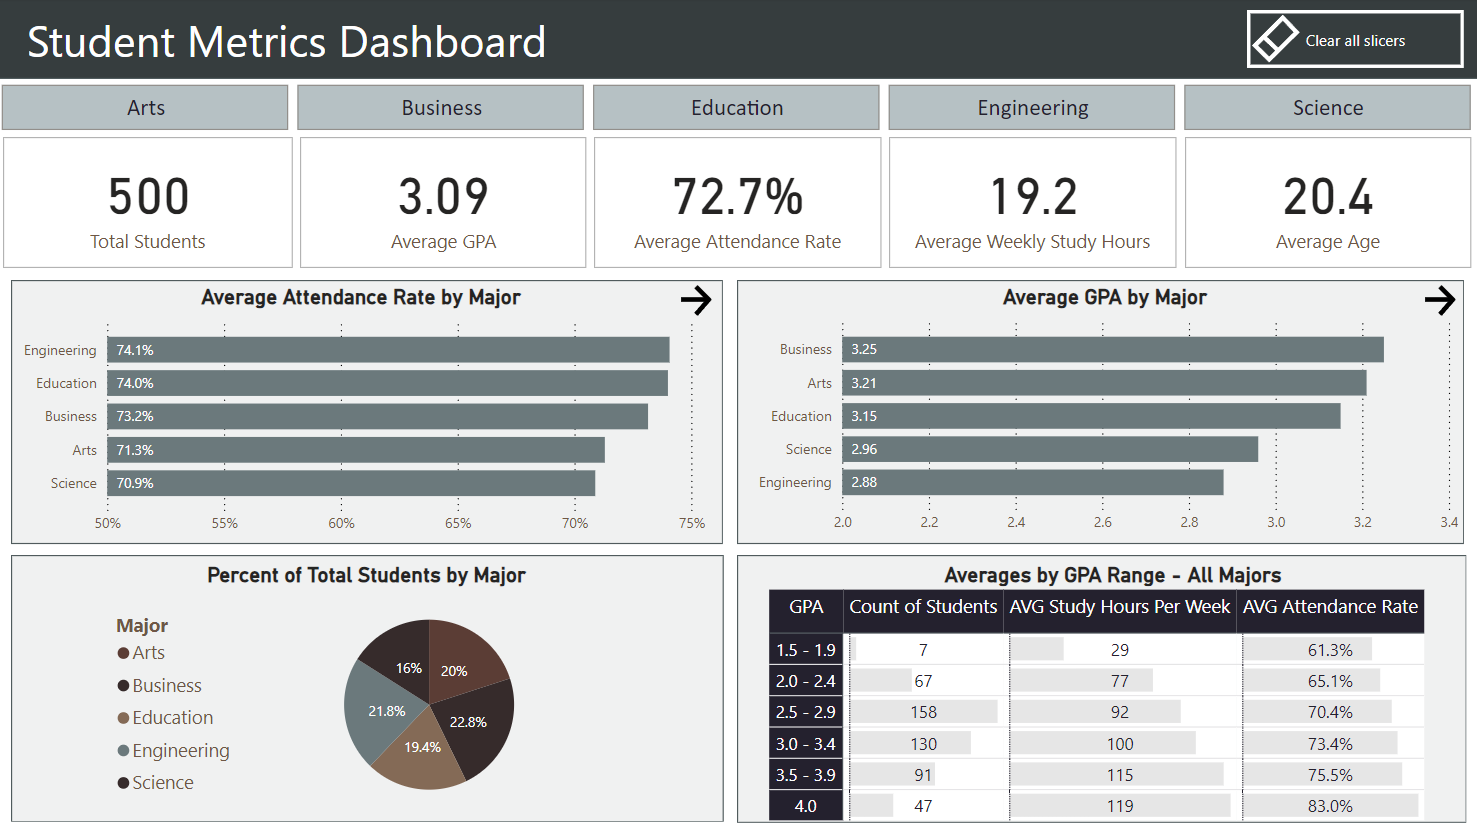

The page's visual inventory and layout, read from the dashboard file:
{"tool":"powerbi","page":{"name":"Overview","canvas":[1280,720],"ordinal":0},"visuals":[{"type":"shape","box":[639.4,480.6,629.4,231.1],"z":0},{"type":"shape","box":[12.6,480.7,614.8,230.4],"z":1000},{"type":"shape","box":[639.4,243.3,627.2,227.8],"z":2000},{"type":"shape","box":[13.1,243.1,614.2,227.8],"z":3000},{"type":"shape","box":[0,0,1280,69.9],"z":4000},{"type":"card","fields":{"Values":["Avg(General AVGs.avg_gpa)"]},"box":[262.2,120,247.4,113],"z":5000},{"type":"card","fields":{"Values":["Avg(General AVGs.avg_age)"]},"box":[1025.7,120,246.5,113],"z":6000},{"type":"card","fields":{"Values":["Avg(General AVGs.avg_attendance)"]},"box":[515.8,119.9,247.5,113],"z":7000},{"type":"card","fields":{"Values":["Avg(General AVGs.avg_study_hours)"]},"box":[770.2,119.9,247.5,113],"z":8000},{"type":"card","title":"Total Students","fields":{"Values":["CountNonNull(Students.StudentID)"]},"box":[6.1,120,249.6,113],"z":9000},{"type":"textbox","box":[21.6,6,468.4,63.8],"z":10000},{"type":"pieChart","title":"Percent of Total Students  by Major","fields":{"Y":["Avg(Students % of Total.percent_of_total_students)"],"Category":["Students % of Total.Major"]},"box":[98.3,486.5,442.5,225.1],"z":11000},{"type":"barChart","title":"Average GPA by Major","fields":{"Category":["General AVGs.Major"],"Y":["Avg(General AVGs.avg_gpa)"]},"box":[646.9,246.7,619.3,223.4],"z":12000},{"type":"barChart","title":"Average Attendance Rate by Major","fields":{"Category":["General AVGs.Major"],"Y":["Avg(General AVGs.avg_attendance)"]},"box":[12.9,246.7,603.8,224.3],"z":13000},{"type":"actionButton","box":[1079,10.4,187.2,50],"z":14000},{"type":"actionButton","box":[582.2,243.2,42.3,35.4],"z":15000},{"type":"actionButton","box":[1223.9,243.2,42.3,35.4],"z":16000},{"type":"advancedSlicerVisual","fields":{"Values":["General AVGs.Major"]},"box":[0,70.2,1278.2,49.5],"z":17000},{"type":"pivotTable","title":"Averages by GPA Range - All Majors","fields":{"Rows":["Query1.GPA_Rating"],"Values":["Sum(Query1.Count_Students)","Sum(Query1.Avg_StudyHoursPerWeek)","Avg(Query1.Avg_AttendanceRate)"]},"box":[647.3,480.9,618.2,239.1],"z":18001}]}

Visuals, with their boxes in screenshot pixels (x1, y1, x2, y2), scaled from the page's 1280x720 canvas onto the 1477x830 screenshot:
shape: locate(738, 554, 1464, 820)
shape: locate(15, 554, 724, 820)
shape: locate(738, 280, 1462, 543)
shape: locate(15, 280, 724, 543)
shape: locate(0, 0, 1476, 81)
card - Avg(General AVGs.avg_gpa): locate(303, 138, 588, 269)
card - Avg(General AVGs.avg_age): locate(1184, 138, 1468, 269)
card - Avg(General AVGs.avg_attendance): locate(595, 138, 881, 268)
card - Avg(General AVGs.avg_study_hours): locate(889, 138, 1174, 268)
"Total Students" card: locate(7, 138, 295, 269)
textbox: locate(25, 7, 565, 80)
"Percent of Total Students  by Major" pieChart: locate(113, 561, 624, 820)
"Average GPA by Major" barChart: locate(746, 284, 1461, 542)
"Average Attendance Rate by Major" barChart: locate(15, 284, 712, 543)
actionButton: locate(1245, 12, 1461, 70)
actionButton: locate(672, 280, 721, 321)
actionButton: locate(1412, 280, 1461, 321)
advancedSlicerVisual - General AVGs.Major: locate(0, 81, 1475, 138)
"Averages by GPA Range - All Majors" pivotTable: locate(747, 554, 1460, 829)
